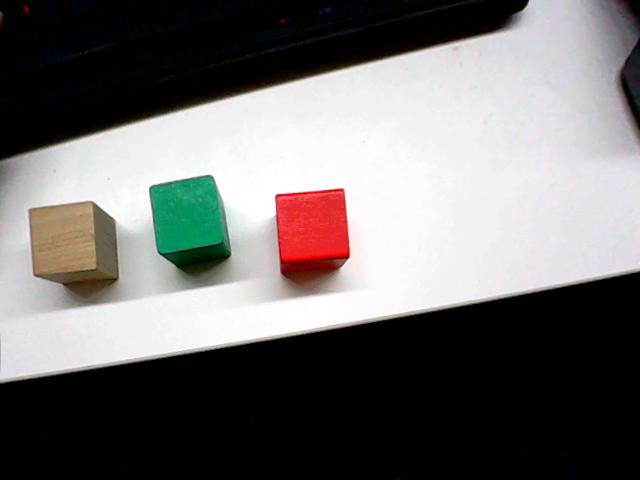green_box: (146, 171, 233, 269)
raw_box: (26, 198, 127, 289)
red_box: (271, 183, 353, 275)
